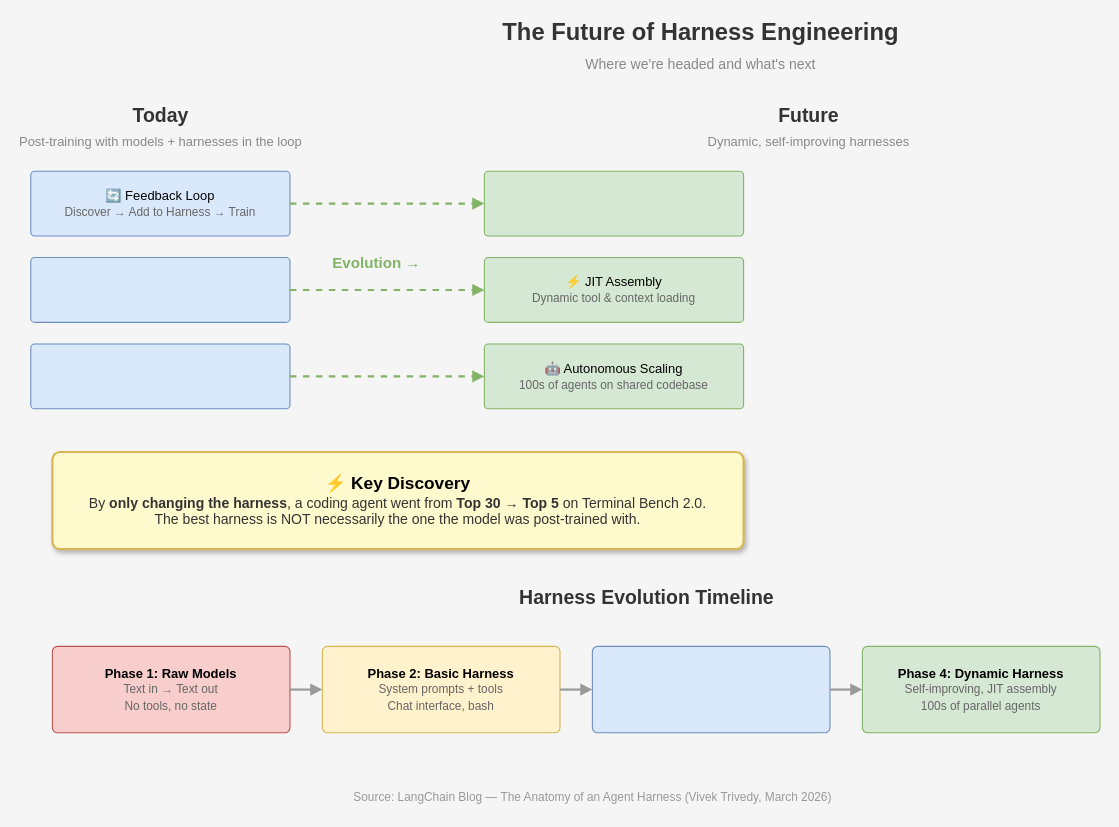
This 1119x827 diagram has some shape labels left out. Each missing label, with the centre of its shape:
"Phase 3: Post-Training Model + harness co-designed Claude Code, Codex" belongs at (x=710, y=689).
"🏗️ Fixed Harness Static set of tools & prompts" belongs at (x=160, y=289).
"🔄 Self-Improving Agents analyze own traces" belongs at (x=613, y=203).
"🔧 Manual Tuning Human engineers craft prompts" belongs at (x=160, y=376).
